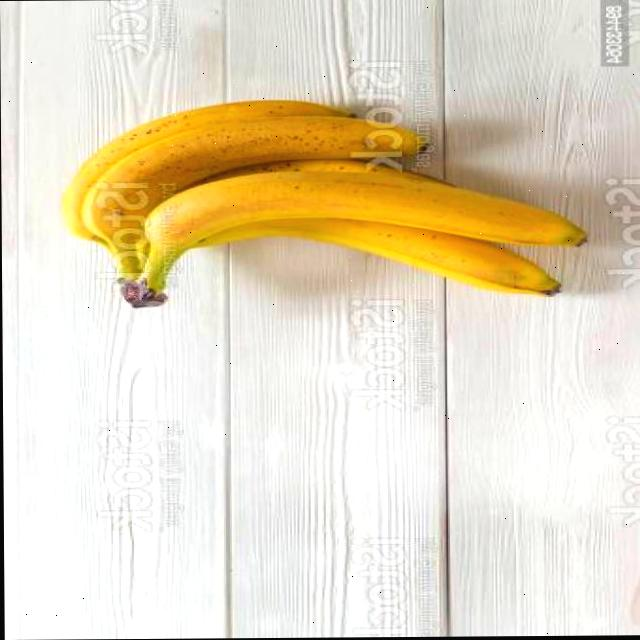banana: (57, 94, 596, 314)
